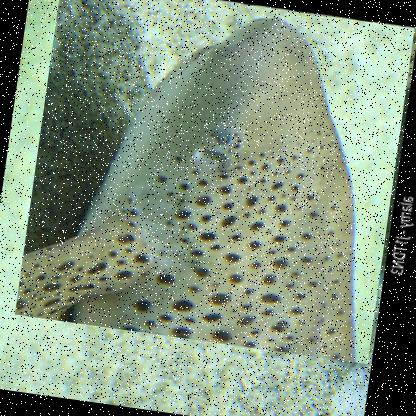zebra_shark: (13, 0, 415, 365)
